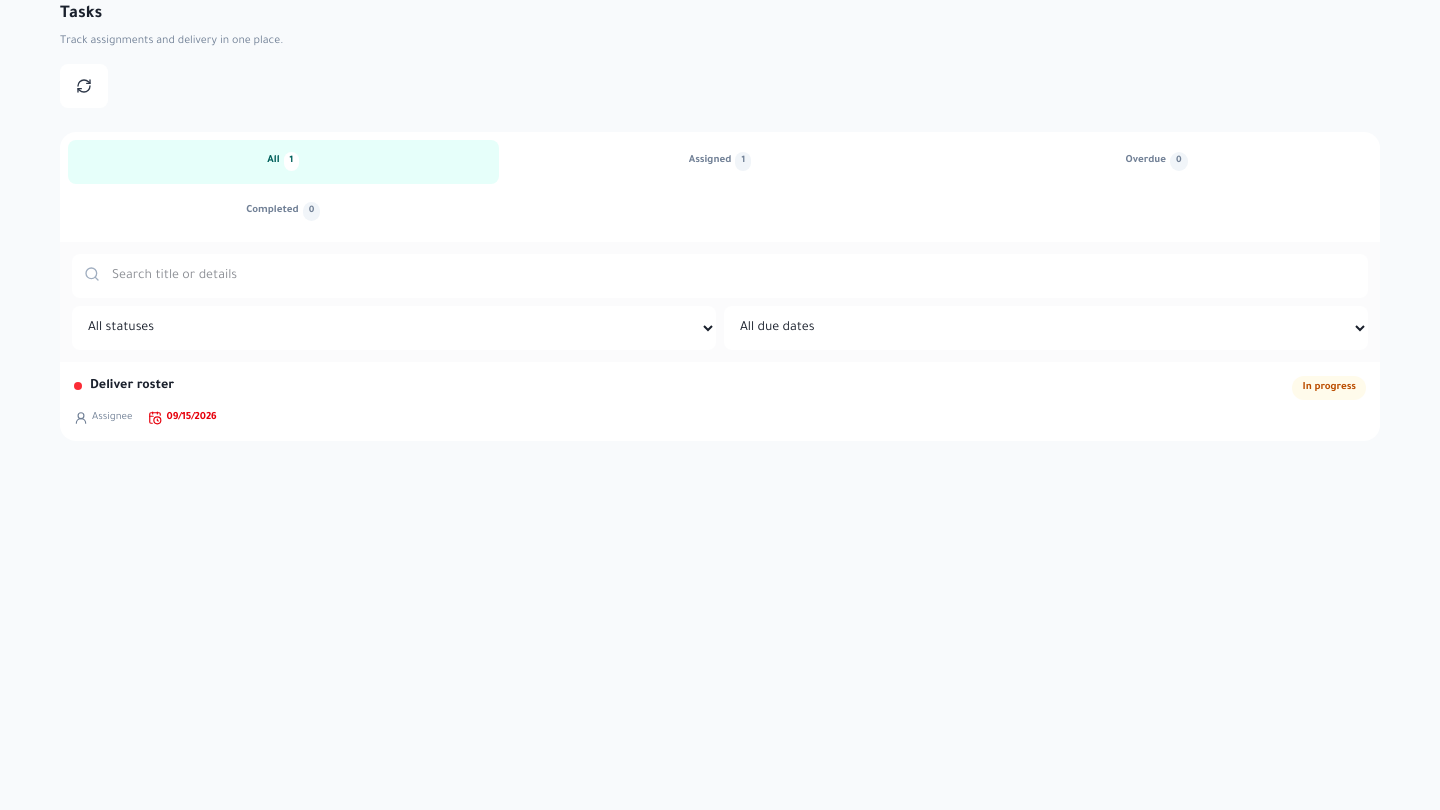
TasksPage navigation › shows private delivery files and an upload control to the task assignee
Click the button "Deliver roster In progress Assignee 09/15/2026": (132, 386) [60,362,1380,440]
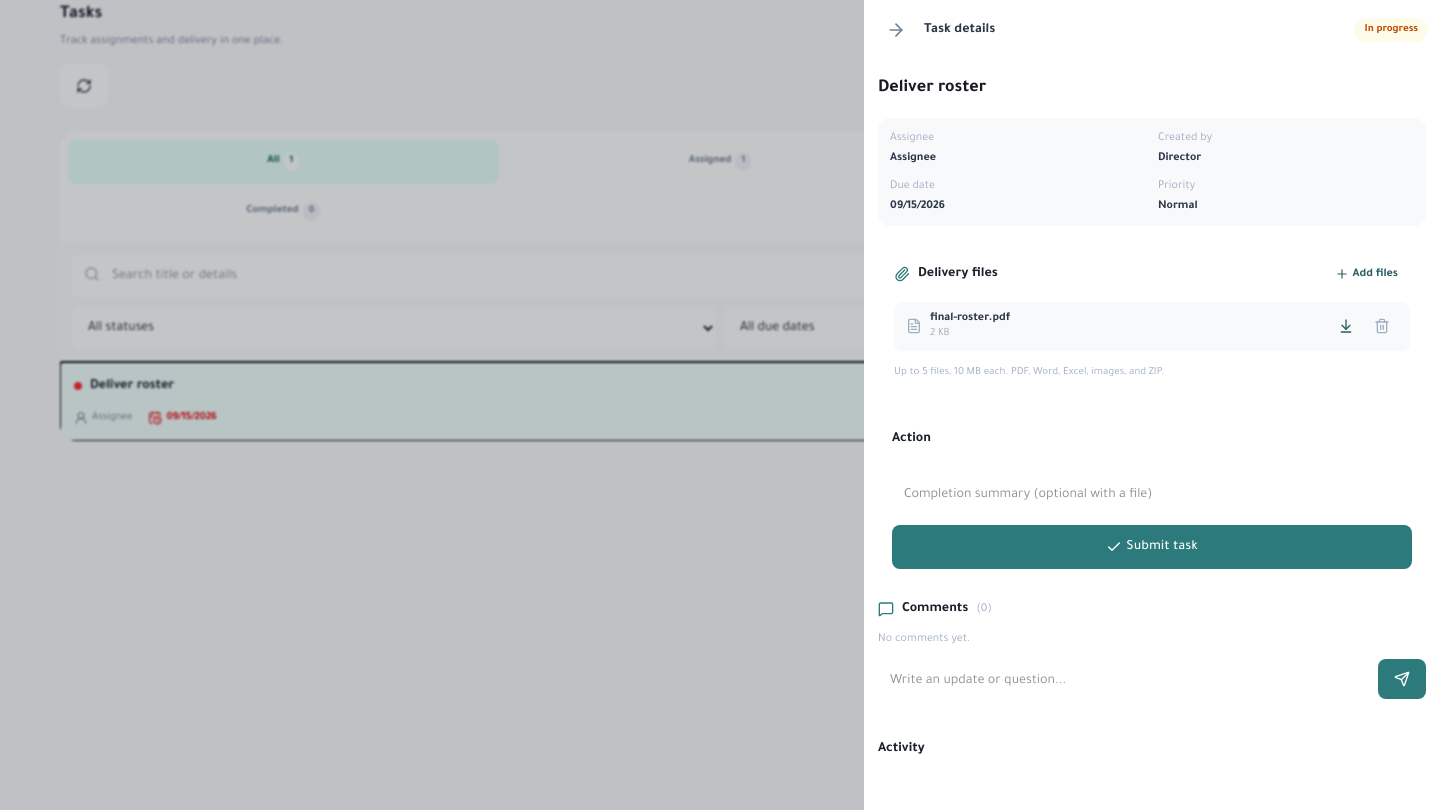
Expected: the heading "Delivery files" is shown, [894,264,998,284]
Expected: the text "final-roster.pdf" is shown, [930,310,1010,326]
Expected: the file field named "Add delivery files" is shown, [1335,267,1398,281]
